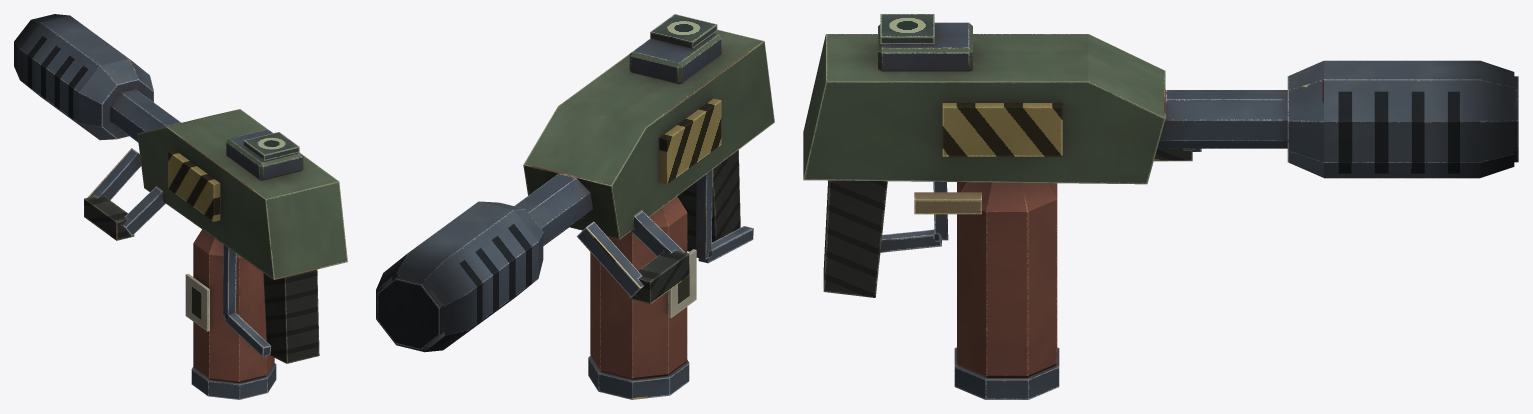
File: Lanzallamas_Estatico.glb
3 views of the same model, side by side, from view 1: azimuth 30°, elevation 25°; view 2: azimuth 150°, elevation 25°; view 3: azimuth 270°, elevation 25° (orthographic). The views are drawn at different scales.
Visible parts, largest first — view 1: Handle, Cartucho; view 2: Handle, Cartucho; view 3: Handle, Cartucho, Cierre.
Boxes of the visible parts, x1,y1,x2,y2 form: Handle: (14, 14, 347, 363); Cartucho: (185, 229, 276, 399); Handle: (376, 14, 774, 352); Cartucho: (588, 196, 696, 399); Handle: (803, 14, 1518, 297); Cartucho: (954, 182, 1059, 399); Cierre: (914, 192, 981, 214).
Size of the model in its own units: 0.88 by 1.72 by 3.16.
1 material, 1 textured.
